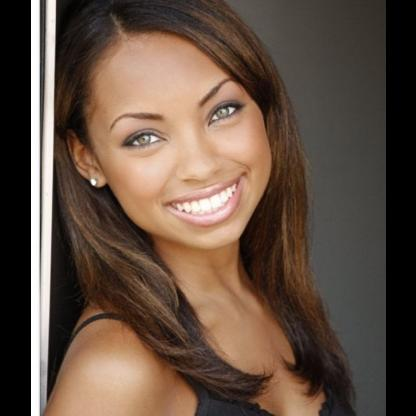Female: (67, 27, 272, 246)
